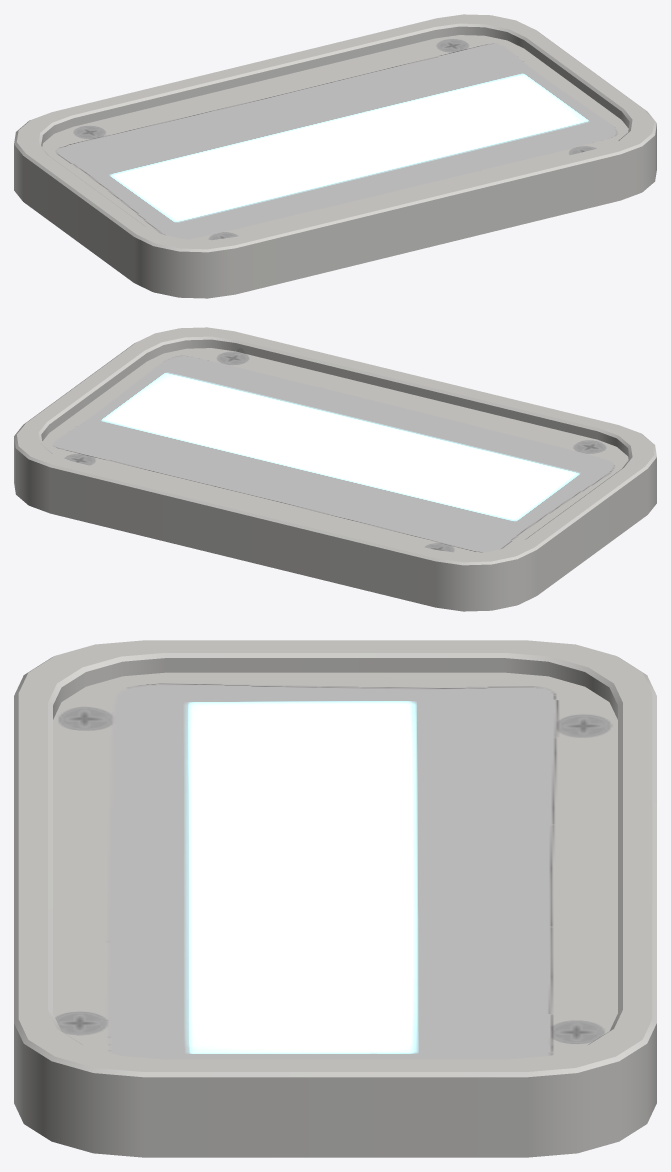
Rendered from SM_Lamp_3_1.fbx.
3 views of the same model, one above another, from view 1: azimuth 30°, elevation 25°; view 2: azimuth 150°, elevation 25°; view 3: azimuth 270°, elevation 25° (orthographic). The views are drawn at different scales.
Parts seen in each view (by area): view 1: SM_Lamp_3_1_LOD0; view 2: SM_Lamp_3_1_LOD0; view 3: SM_Lamp_3_1_LOD0.
Boxes of the visible parts, x1=… form: SM_Lamp_3_1_LOD0: x1=14, y1=14, x2=656, y2=298; SM_Lamp_3_1_LOD0: x1=14, y1=327, x2=656, y2=611; SM_Lamp_3_1_LOD0: x1=14, y1=640, x2=656, y2=1157.
Bounding box in the file's own units: 16.03 × 1.43 × 10.
Materials: 1 (1 with a texture image).
